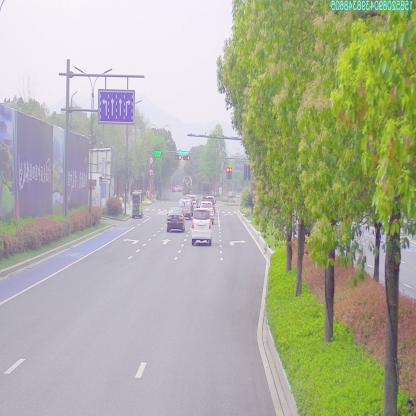traffic-light: (175, 149, 189, 154), (184, 153, 190, 160), (175, 155, 182, 160)
